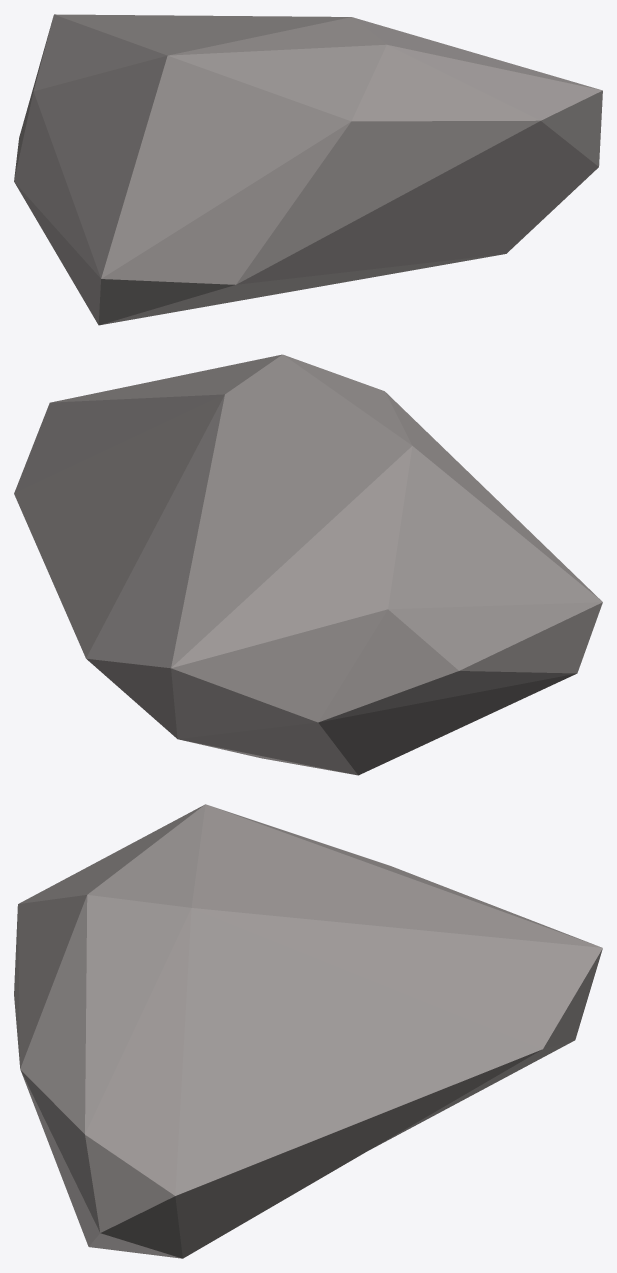
File: SM_Rock_S_01.fbx
The picture shows the model from 3 angles, top to bottom: view 1: azimuth 30°, elevation 25°; view 2: azimuth 150°, elevation 25°; view 3: azimuth 270°, elevation 25°; orthographic projection. The views are drawn at different scales.
Parts seen in each view (by area): view 1: SM_Rock_S_01; view 2: SM_Rock_S_01; view 3: SM_Rock_S_01.
Boxes of the visible parts, <box> form: SM_Rock_S_01: <box>14,14,602,325</box>; SM_Rock_S_01: <box>14,354,602,775</box>; SM_Rock_S_01: <box>14,804,602,1258</box>.
Bounding box in the file's own units: 72.5 × 36.95 × 61.5.
